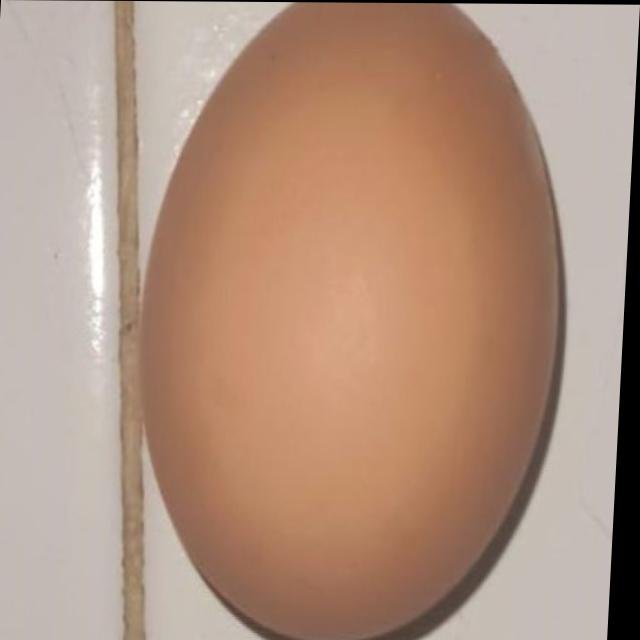fresh: (134, 1, 590, 640)
